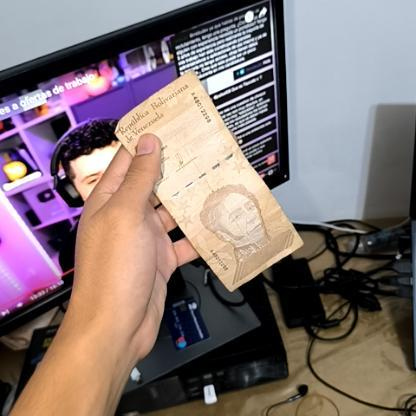five-front-vef: (114, 70, 306, 292)
